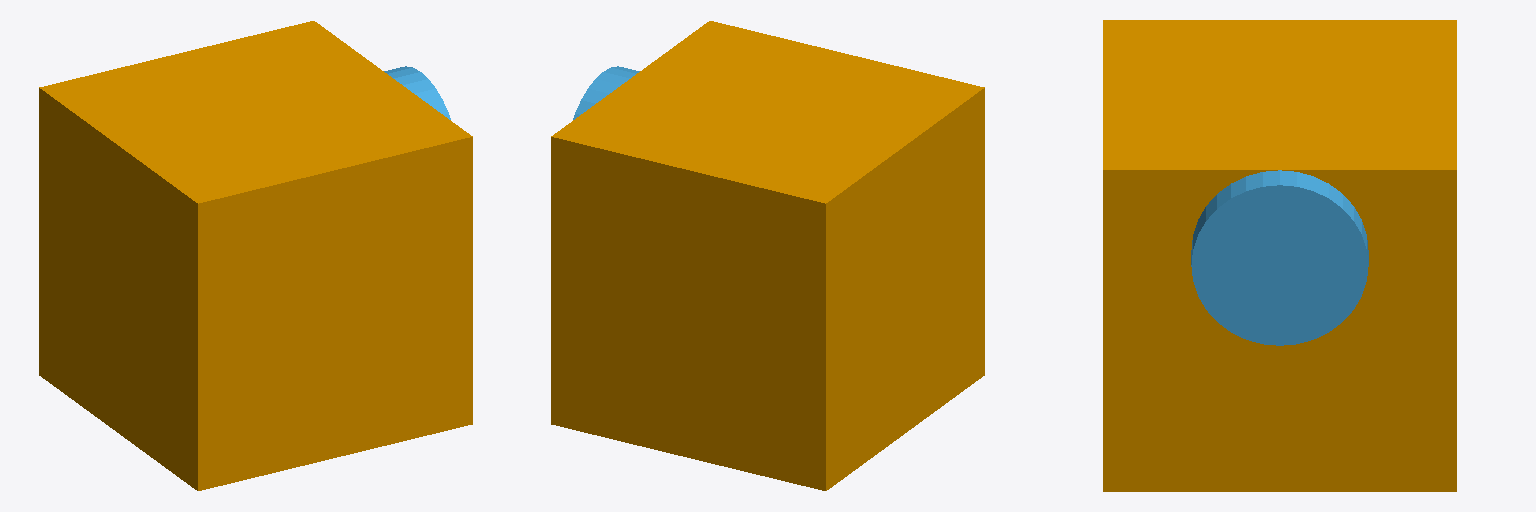
The robot description file, URDF, robot "block":
<?xml version="1.0"?>

<!--The ode physics engine (open dynamics engine) uses a pyramid model for friction-->
<!--The friction is a maximum force mu1*Fn where mu1 is the friction coefficient and Fn is the normal force-->
<!--Therefore the frictional force will decrease the wheel's angular speed linearly [v = v0 - (Ff/m)*t] -->


<robot name="block" xmlns:xacro="http://ros.org/wiki/xacro">
  <link name="heavy_block">
    <!--visual box-->
    <visual>
      <geometry>
        <box size = "1.0 1.0 1.0"/>
      </geometry>
    </visual>
    <!--collision-->
    <collision>
      <geometry>
        <box size = "1.0 1.0 1.0"/>
      </geometry>
    </collision>
    <!--inertial-->
    <inertial>
      <mass value="1.0"/>
      <inertia ixx="0.1667" ixy="0.0" ixz="0.0" iyy="0.1667" iyz="0.0" izz="0.1667"/>
    </inertial>
  </link>
  
  
  <link name="wheel">
    <!--visual box-->
    <visual>
      <origin xyz="0 0 0" rpy="0 1.57 0"/>
      <geometry>
        <cylinder radius="0.25" length="0.10"/>
      </geometry>
    </visual>
    <!--collision-->
    <collision>
      <origin xyz="0 0 0" rpy="0 1.57 0"/>
      <geometry>
        <cylinder radius="0.25" length="0.10"/>
      </geometry>
    </collision>
    <!--inertial-->
    <inertial>
      <mass value="0.1"/>
      <inertia ixx="0.1667" ixy="0.0" ixz="0.0" iyy="0.1667" iyz="0.0" izz="0.1667"/>
    </inertial>
  </link>
  
  <joint name="rev1" type="continuous">
    <parent link ="heavy_block"/>
    <child link ="wheel"/>
    <origin xyz="0.55 0 0.25" rpy="0 0 0"/>
    <axis xyz="1.0 0 0"/>
    <limit effort="1000.0" lower="0.0" upper="0.0" velocity="0.5"/>
  </joint>
  
  <gazebo reference="heavy_block">
    <material>Gazebo/Orange</material>
    <mu1>0.8</mu1>
    <mu2>0.8</mu2>
    <min_depth>0.01</min_depth>
    <kp>1e4</kp>
    <kd>1.0</kd>
  </gazebo>
  
  
  <!--Unpause the simulation, apply a 100[N*m] Torque too the wheel-->
  <!-- Set mu1,2 = 0.8 notice the speed decreases slowly-->
  <!-- Set mu1,2 = 8.0 notice the speed decreases modestly -->
  <!-- Set mu1,1 = 80.0 notice the speed decreases rapidly-->
  
  <gazebo reference="grinder_block">
    <material>Gazebo/Orange</material>
    <mu1>80.0</mu1>
    <mu2>80.0</mu2>
    <min_depth>0.01</min_depth>
    <kp>1e4</kp>
    <kd>1.0</kd>
  </gazebo>
  
  <gazebo reference="wheel">
    <material>Gazebo/White</material>
    <mu1>80.0</mu1>
    <mu2>80.0</mu2>
    <min_depth>0.01</min_depth>
    <kp>1e4</kp>
    <kd>1.0</kd>
  </gazebo>
  
</robot>

--- Facts derived from the render (not from the file) ---
Views: 3 orthographic renders of the robot side by side, from view 1: azimuth 30°, elevation 25°; view 2: azimuth 150°, elevation 25°; view 3: azimuth 270°, elevation 25°.
Robot: block — 2 links, 1 joints (1 continuous); root link heavy_block; default pose: every joint at zero.
Links seen in each view (by area): view 1: heavy_block, wheel; view 2: heavy_block, wheel; view 3: heavy_block, wheel.
Link boxes in pixels (x1=…): heavy_block: x1=39, y1=21, x2=472, y2=490; wheel: x1=384, y1=66, x2=450, y2=119; heavy_block: x1=551, y1=21, x2=984, y2=490; wheel: x1=573, y1=66, x2=639, y2=119; heavy_block: x1=1103, y1=20, x2=1456, y2=491; wheel: x1=1191, y1=170, x2=1368, y2=345.
Size in the robot's own frame: 1.1 by 1 by 1 metres.
Geometry: primitives only (box / cylinder / sphere), no mesh files.